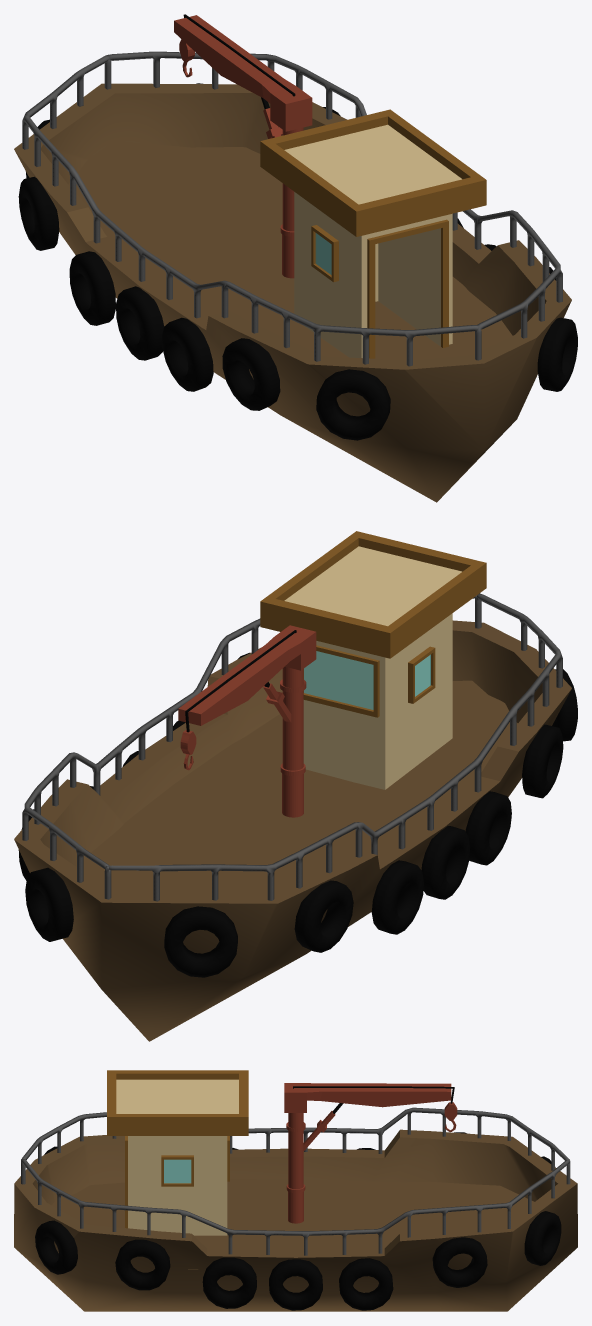
The model's file is Tugboat.glb.
3 renders of one model, top to bottom at view 1: azimuth 30°, elevation 25°; view 2: azimuth 150°, elevation 25°; view 3: azimuth 270°, elevation 25°, orthographic. The views are drawn at different scales.
Visible parts, largest first — view 1: Hull, Cockpit, Tyres, GuardRail, Crane; view 2: Hull, Cockpit, Tyres, GuardRail, Crane; view 3: Hull, Cockpit, Tyres, GuardRail, Crane.
Part boxes in pixels (<box>): Hull: <box>14,83,571,502</box>; Cockpit: <box>260,109,486,358</box>; Tyres: <box>18,83,577,440</box>; GuardRail: <box>22,51,562,366</box>; Crane: <box>174,14,312,278</box>; Hull: <box>14,620,571,1041</box>; Cockpit: <box>260,531,486,789</box>; Tyres: <box>18,652,577,977</box>; GuardRail: <box>22,593,562,901</box>; Crane: <box>178,625,316,817</box>; Hull: <box>14,1129,577,1311</box>; Cockpit: <box>107,1070,248,1235</box>; Tyres: <box>35,1132,561,1310</box>; GuardRail: <box>21,1107,570,1255</box>; Crane: <box>284,1083,457,1223</box>.
Size of the model in its own units: 3.94 by 3.5 by 7.96.
